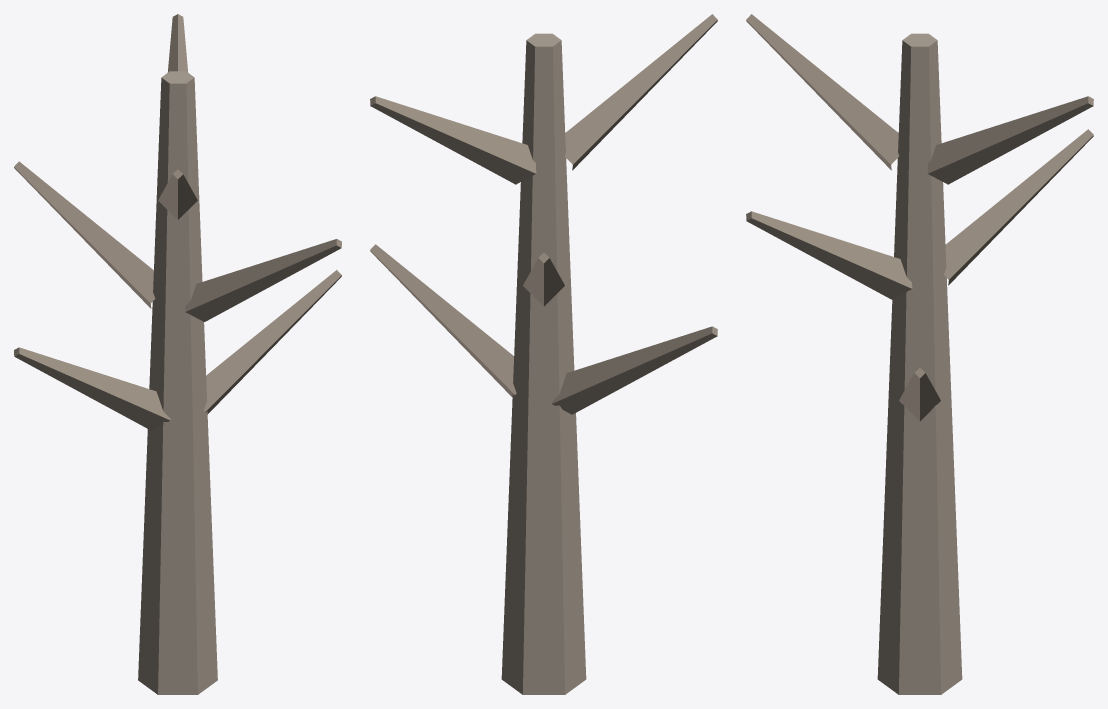
Rendered from deadtree_v27.glb.
3 renders of one model, left to right at view 1: azimuth 30°, elevation 25°; view 2: azimuth 150°, elevation 25°; view 3: azimuth 270°, elevation 25°, orthographic. The views are drawn at different scales.
Visible parts, largest first — view 1: lod0; view 2: lod0; view 3: lod0.
Part boxes in pixels (box(x1,y1,x2,y2)): lod0: box(14, 14, 341, 694); lod0: box(370, 14, 717, 694); lod0: box(746, 14, 1093, 694).
Size of what is drawn, in the model's own units: 2.67 by 4.7 by 2.32.
